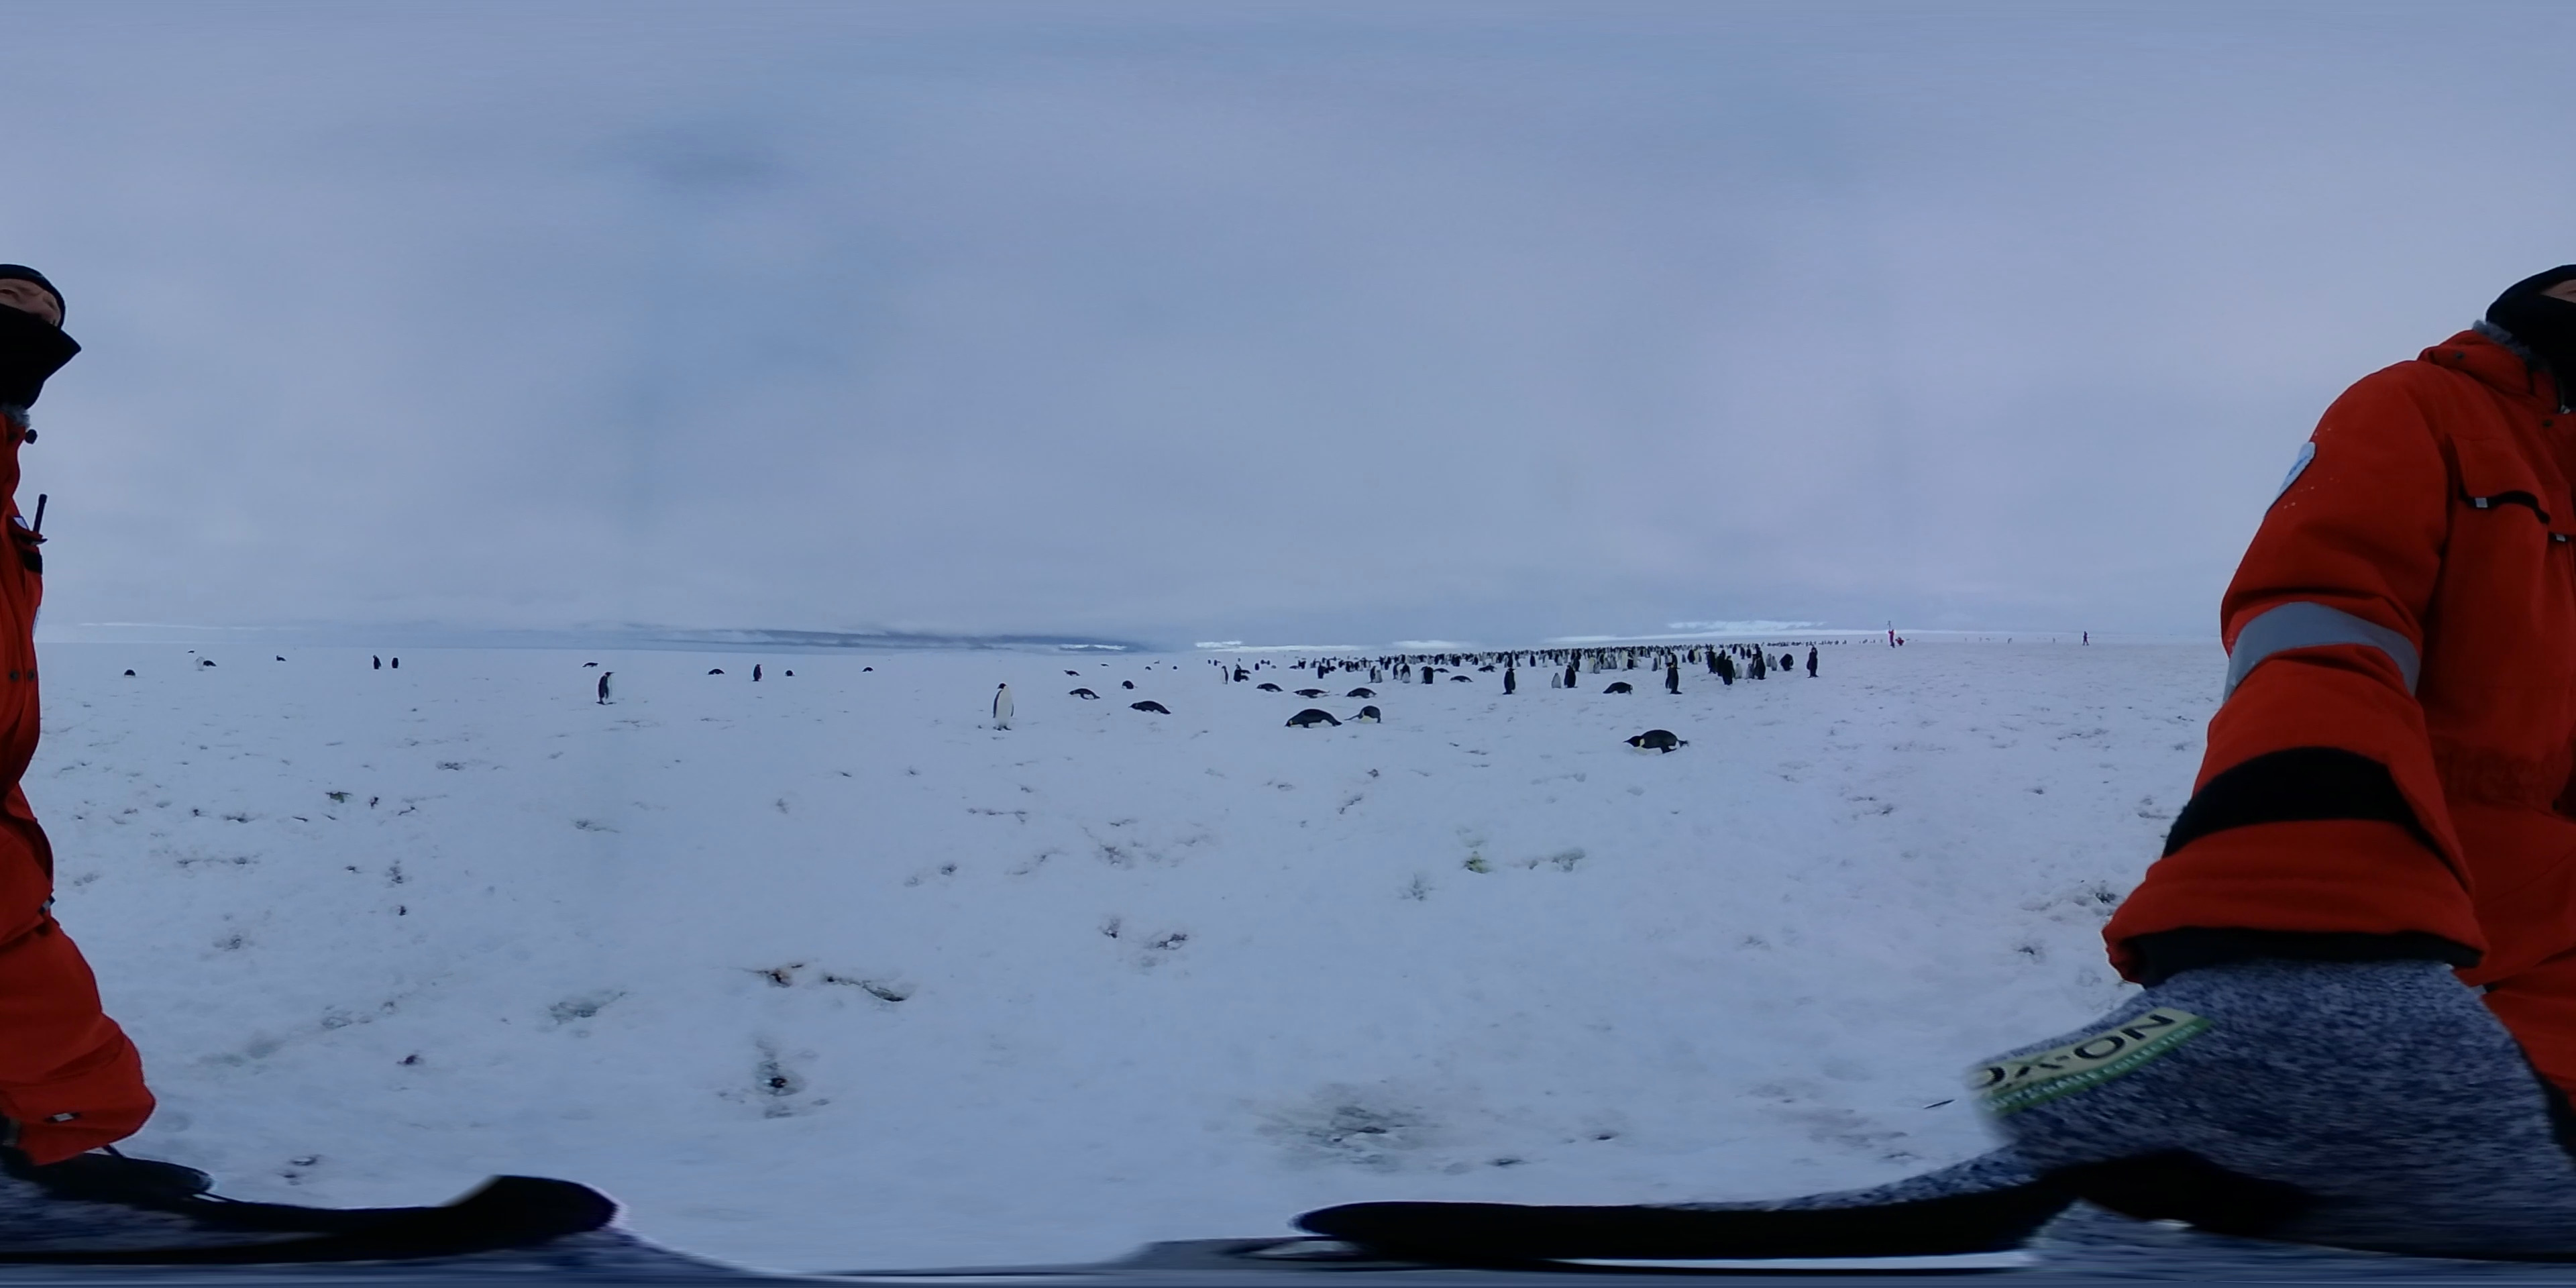adult_standing_penguin: (991, 682, 1014, 733), (1661, 662, 1687, 697), (596, 670, 614, 710), (1500, 665, 1516, 695), (1805, 651, 1820, 678), (751, 662, 767, 687), (1562, 664, 1575, 690), (1217, 664, 1229, 683), (370, 654, 381, 670), (391, 655, 401, 672)
adult_toboggan_penguin: (1621, 728, 1690, 754), (1283, 705, 1339, 731), (1344, 701, 1383, 726), (1129, 698, 1171, 716), (1602, 678, 1636, 697), (1341, 683, 1378, 698), (1291, 687, 1331, 700), (1068, 688, 1102, 703), (1255, 682, 1283, 692), (578, 659, 600, 670), (1449, 672, 1470, 683), (1060, 669, 1083, 678), (1120, 678, 1138, 690), (706, 667, 724, 675)
juvenile_penguin: (1551, 672, 1561, 690)
researcher: (2116, 235, 2576, 1288), (0, 248, 149, 1226)
